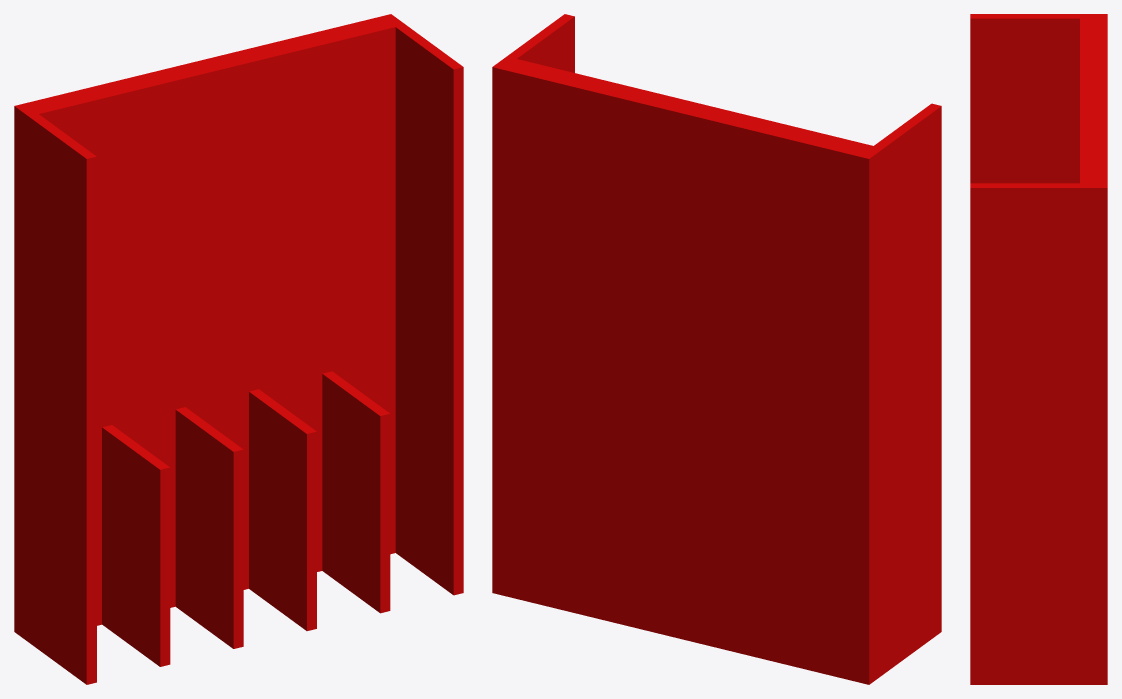
File: plinko_machine.fbx
3 views of the same model, side by side, from view 1: azimuth 30°, elevation 25°; view 2: azimuth 150°, elevation 25°; view 3: azimuth 270°, elevation 25° (orthographic). The views are drawn at different scales.
Visible parts, largest first — view 1: plinko_machine; view 2: plinko_machine; view 3: plinko_machine.
Part boxes in pixels (left/top/right/bottom): plinko_machine: left=14, top=14, right=463, bottom=684; plinko_machine: left=492, top=14, right=941, bottom=684; plinko_machine: left=970, top=14, right=1107, bottom=684.
Bounding box in the file's own units: 150 × 200 × 50.
